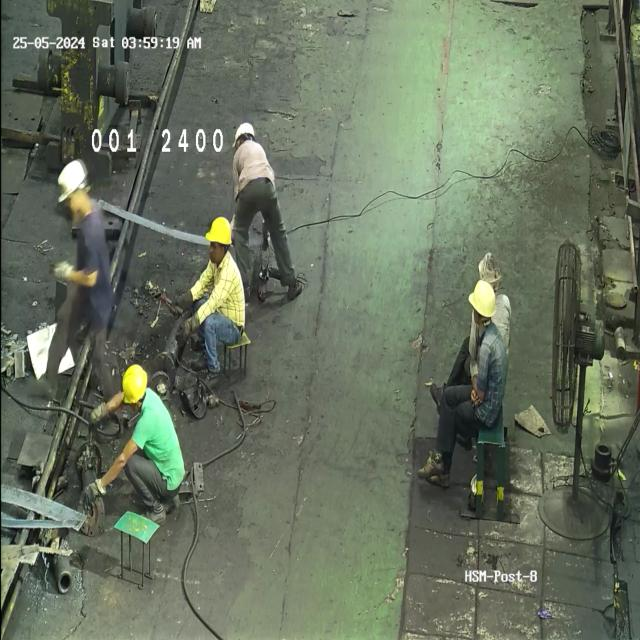Boots: (201, 364, 224, 401), (141, 503, 167, 531), (428, 379, 446, 417), (189, 346, 212, 373), (286, 279, 305, 304), (166, 497, 185, 517), (236, 285, 256, 303)
Gloves: (169, 285, 197, 311), (175, 312, 204, 337)
Hardhat: (55, 154, 92, 223), (119, 356, 157, 416), (468, 276, 503, 335), (204, 214, 233, 274), (472, 250, 504, 297), (226, 114, 259, 153)
NO-Boots: (413, 453, 448, 484), (425, 470, 456, 494)
NO-Gloves: (46, 256, 80, 293), (79, 473, 103, 514), (88, 403, 110, 432)
Person: (419, 252, 512, 513), (50, 159, 114, 390), (230, 121, 305, 304), (186, 216, 246, 377)
